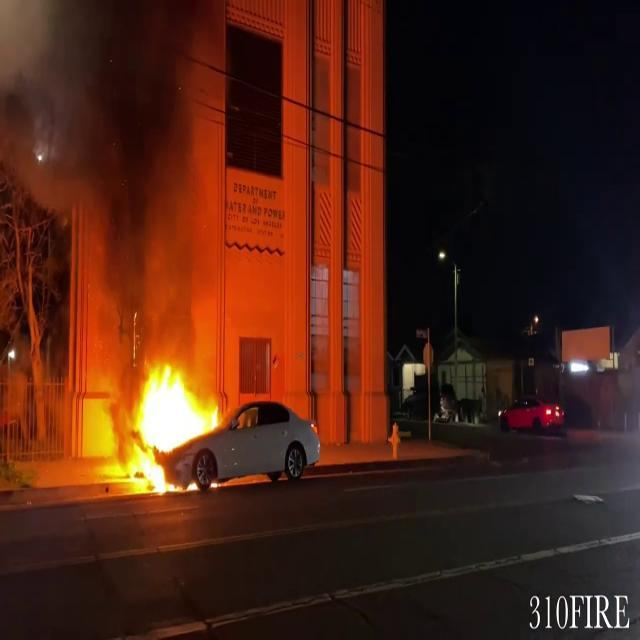Fire: (98, 353, 222, 495)
Smoke: (1, 0, 228, 333)
